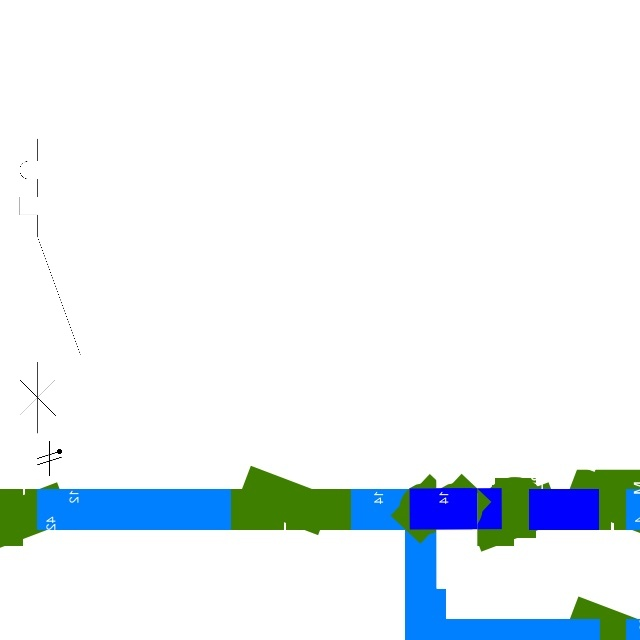interruptor_termomagnetico: (12, 131, 88, 441)
